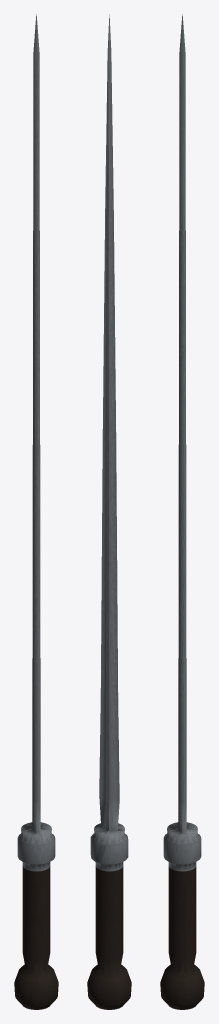
Rendered from estoc-cane-plain.glb.
3 renders of one model, left to right at view 1: azimuth 90°, elevation 25°; view 2: azimuth 150°, elevation 25°; view 3: azimuth 270°, elevation 25°, orthographic.
Parts seen in each view (by area): view 1: estoc-cane-plain; view 2: estoc-cane-plain; view 3: estoc-cane-plain.
Part boxes in pixels (x1=…): estoc-cane-plain: x1=14, y1=14, x2=58, y2=1009; estoc-cane-plain: x1=87, y1=14, x2=131, y2=1009; estoc-cane-plain: x1=160, y1=14, x2=204, y2=1009.
Size of the model in its own units: 0.052 by 1.28 by 0.052.
1 material, 1 textured.
